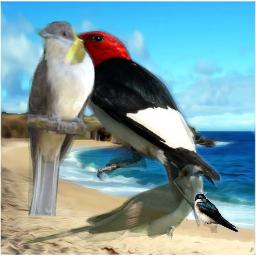Cuckoo: (20, 163, 204, 247), (24, 21, 95, 216)
Swallow: (194, 193, 239, 233)
Woodpecker: (43, 27, 227, 228)
